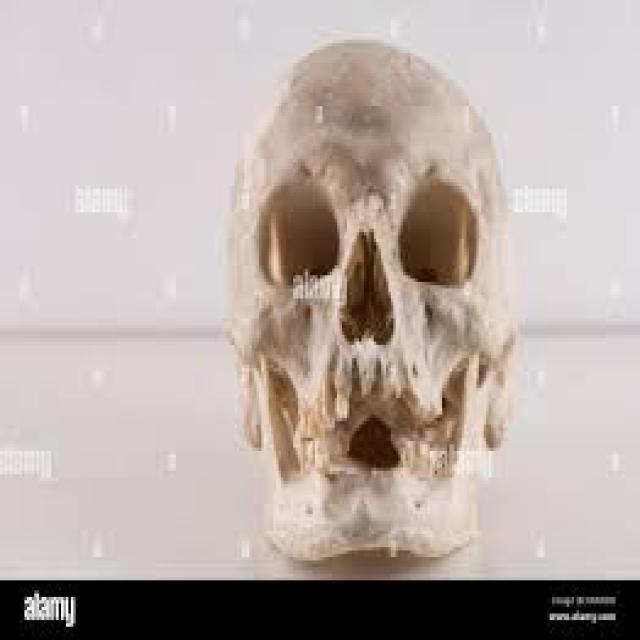skull: (222, 36, 528, 574)
